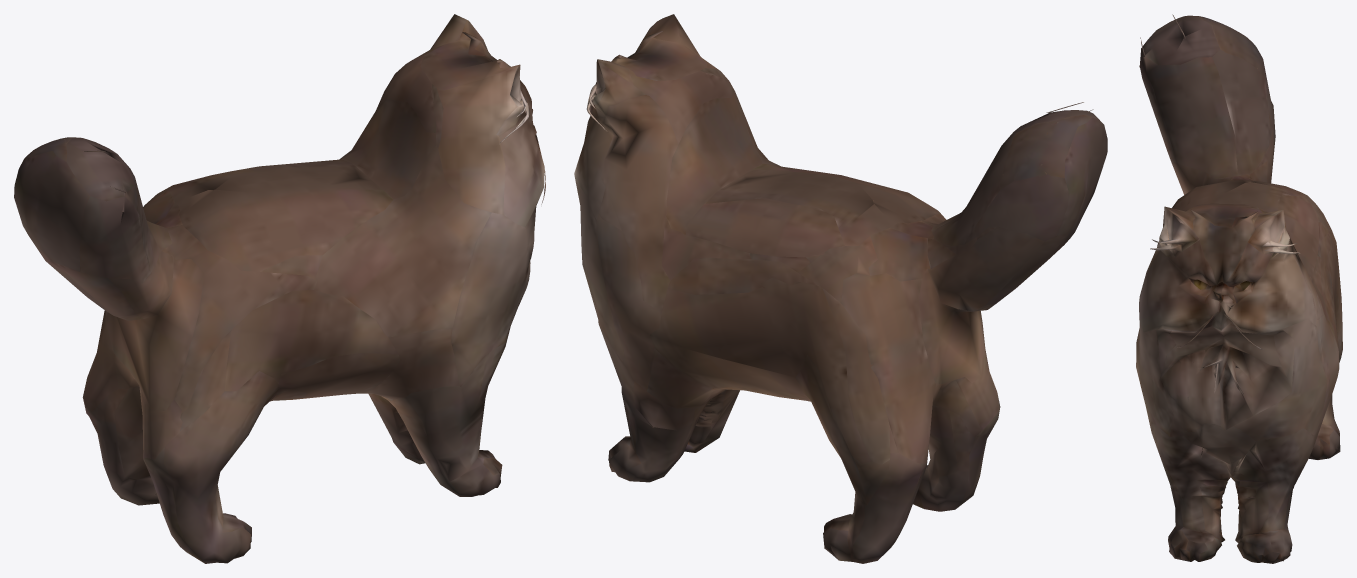
File: COLMEOW2-lo.glb
3 renders of one model, left to right at view 1: azimuth 30°, elevation 25°; view 2: azimuth 150°, elevation 25°; view 3: azimuth 270°, elevation 25°, orthographic. The views are drawn at different scales.
Visible parts, largest first — view 1: material; view 2: material; view 3: material.
Part boxes in pixels (x1,y1,x2,y2): material: (14, 14, 545, 563); material: (574, 14, 1107, 563); material: (1136, 14, 1342, 563).
Size of the model in its own units: 1.2 by 0.9963 by 0.4982.
1 material, 1 textured.
